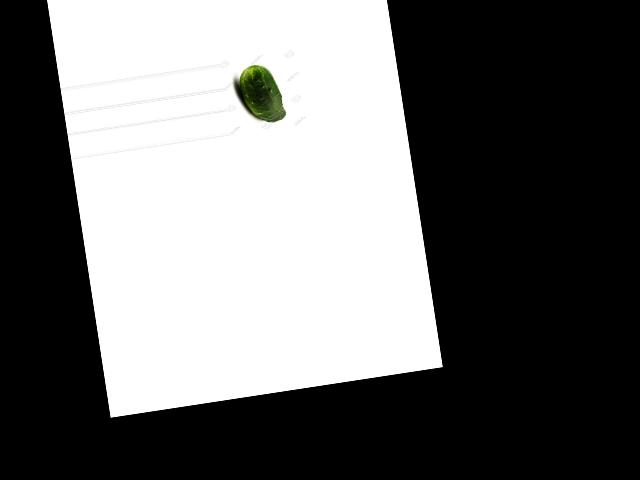cucumber: (236, 61, 286, 126)
